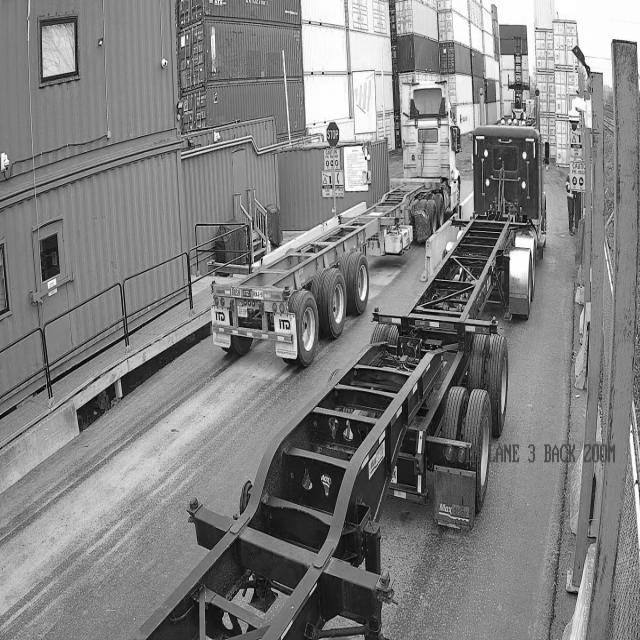driver: (566, 175, 574, 234)
truck_without_container: (140, 124, 548, 639), (211, 83, 460, 366)
